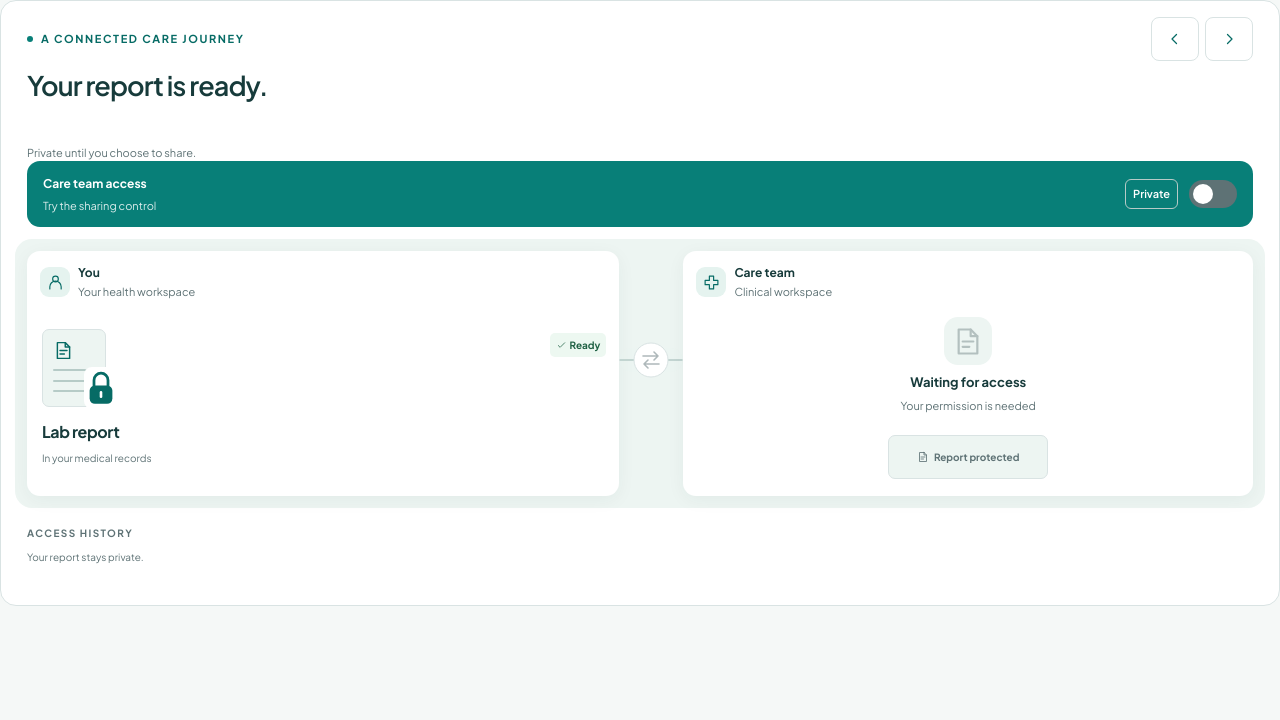
the illustrated care team can open only a shared report
Step 1. Click the switch named "Allow care team access" → point(1213, 194), box [1189, 172, 1237, 216]
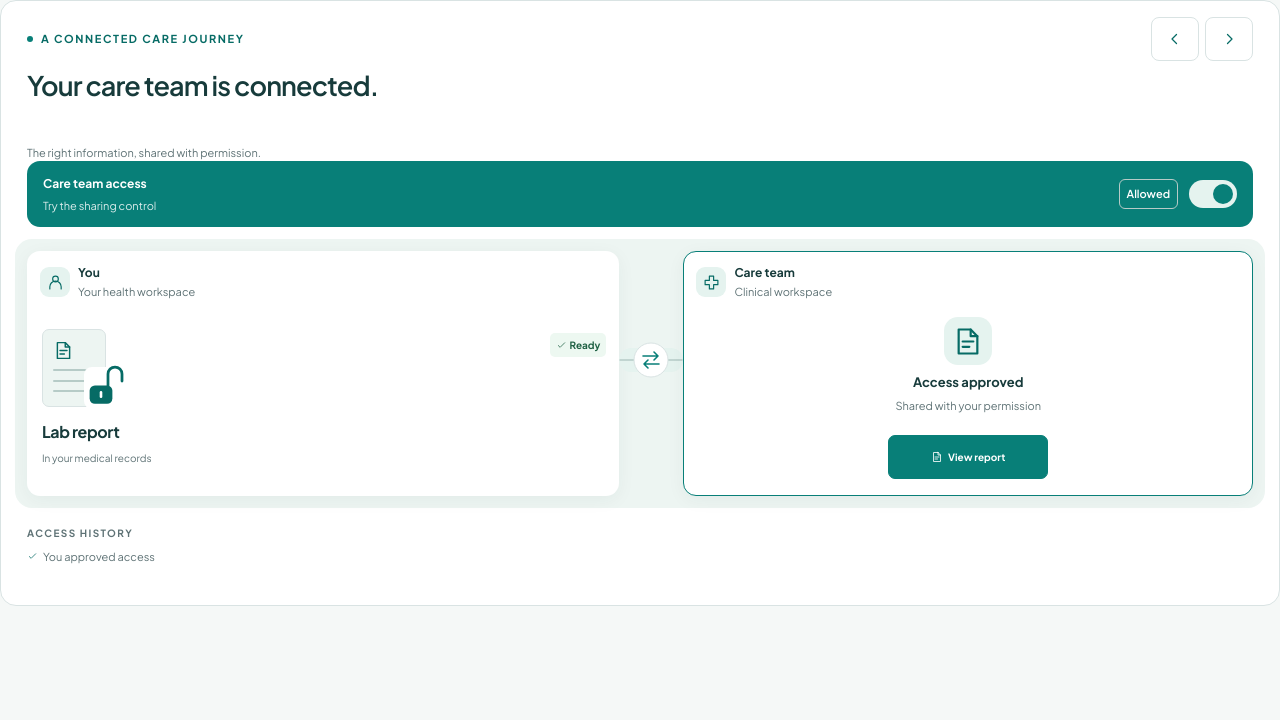
Step 2. Click the button "View report" → point(968, 457), box [888, 435, 1048, 479]
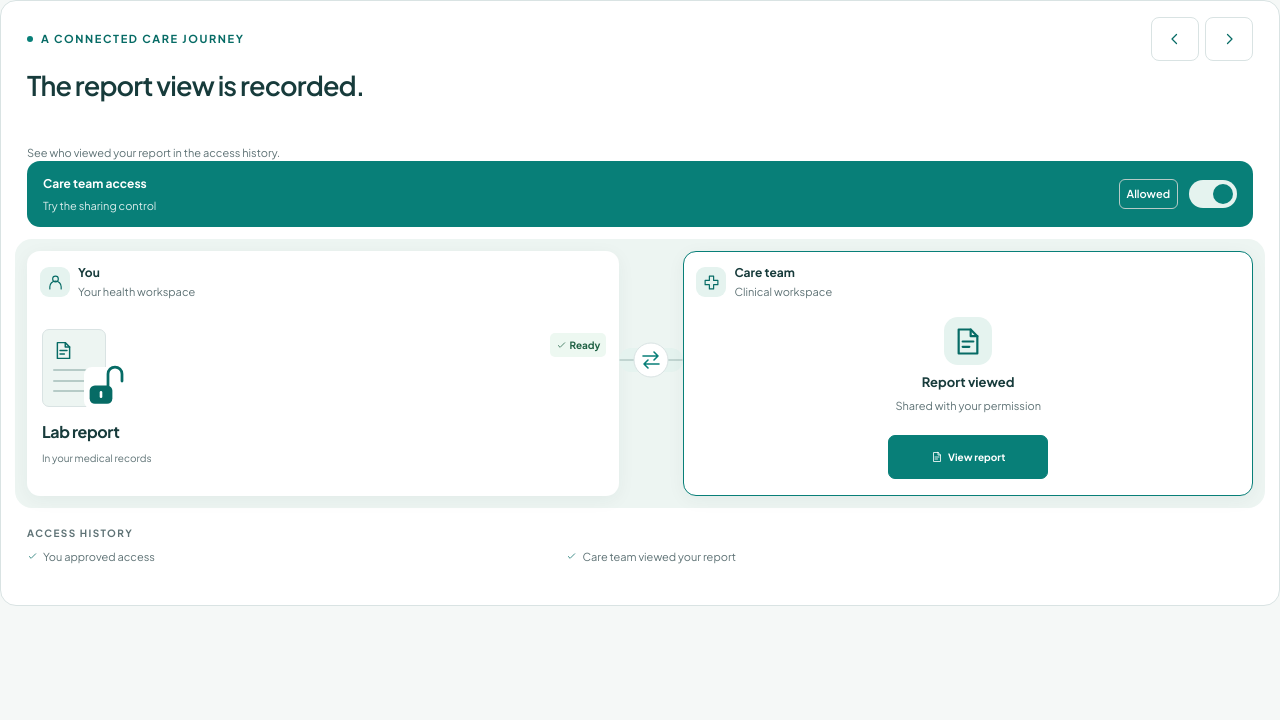
Expected: the element named "See how Medicare sharing works" has attribute data-viewed="true"
Step 3. Click the switch named "Allow care team access" → point(1213, 194), box [1189, 172, 1237, 216]
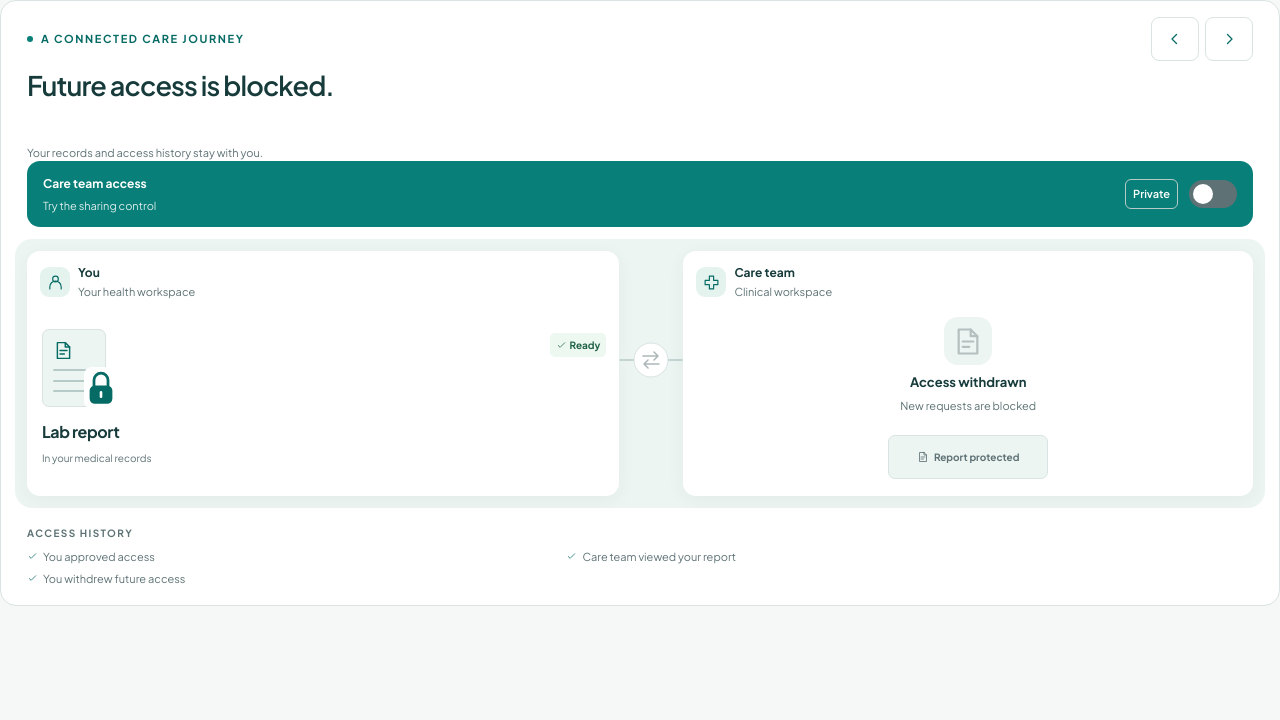
Expected: the button "Report protected" is disabled, [888, 435, 1048, 479]
